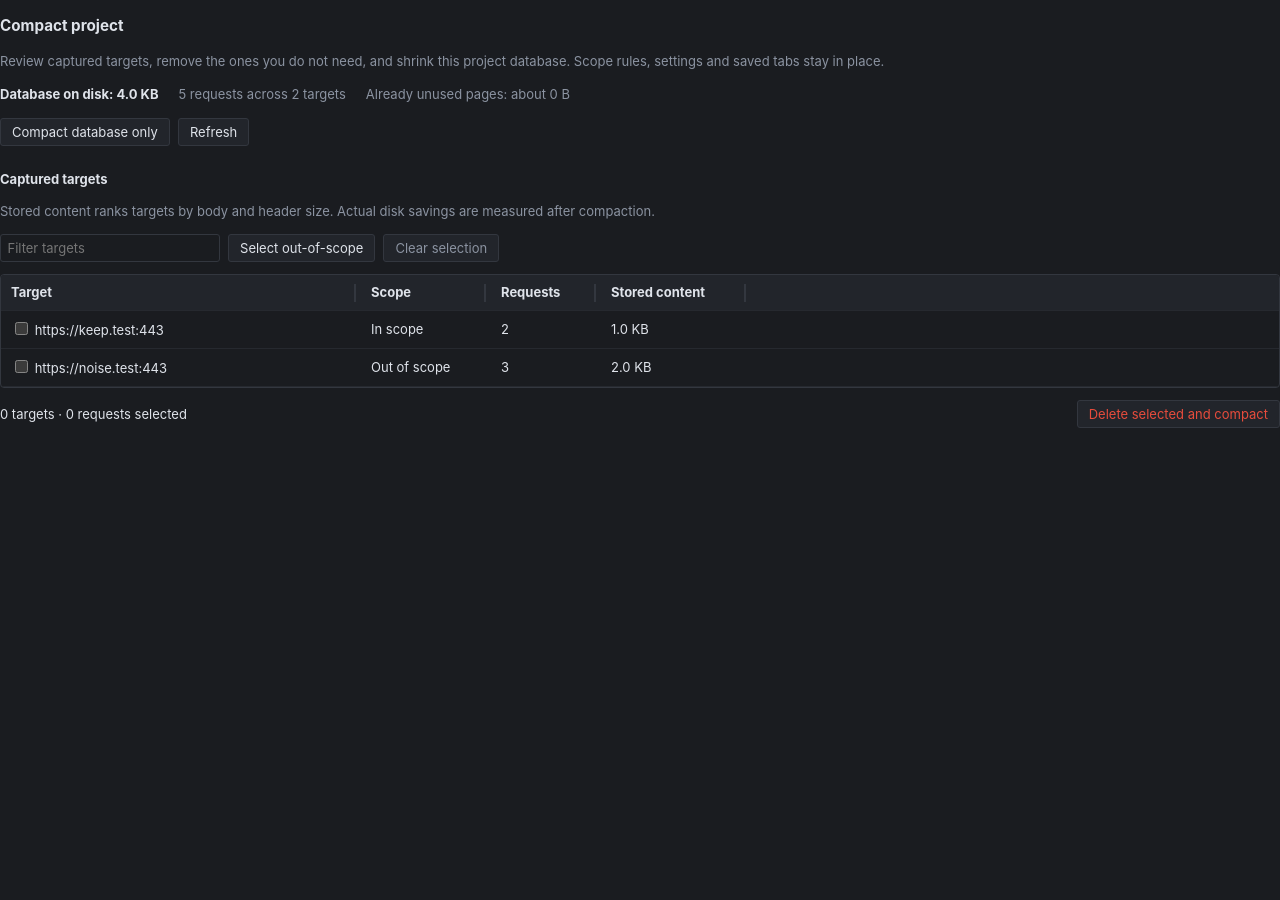
it: marks inferred phases as estimates and admits when time left is unknown
Click the button "Compact database only": click(85, 132) left=0, top=118, right=170, bottom=146
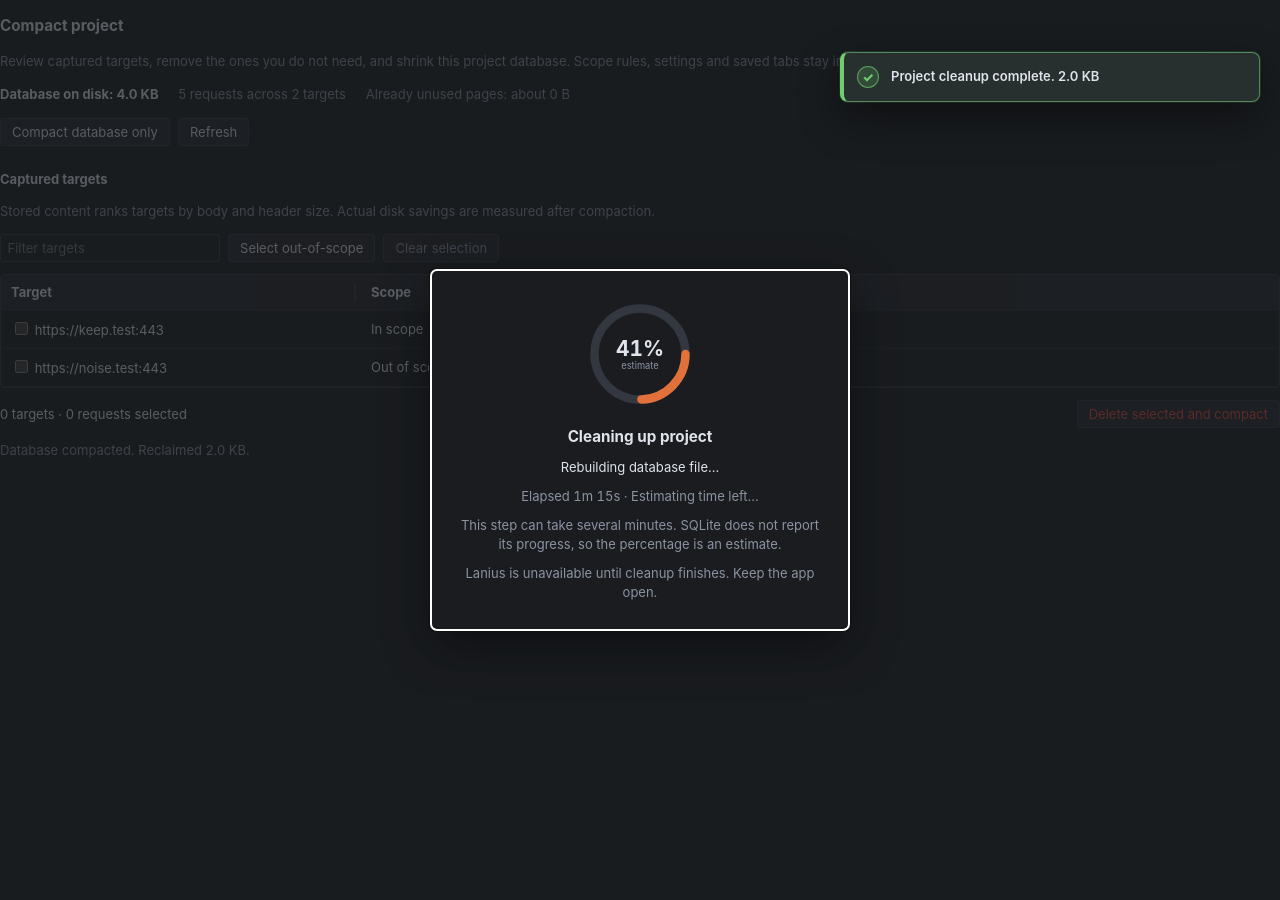
Expected: the text "Rebuilding database file…" is shown, left=561, top=458, right=719, bottom=477
Expected: the text "estimate" is shown, left=621, top=360, right=659, bottom=371
Expected: the text "Estimating time left…" is shown, left=631, top=488, right=759, bottom=504
